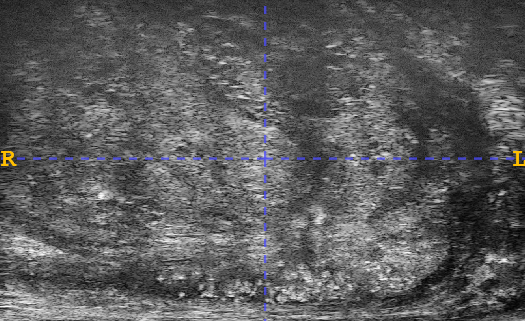calcifications: (156, 245, 393, 305)
